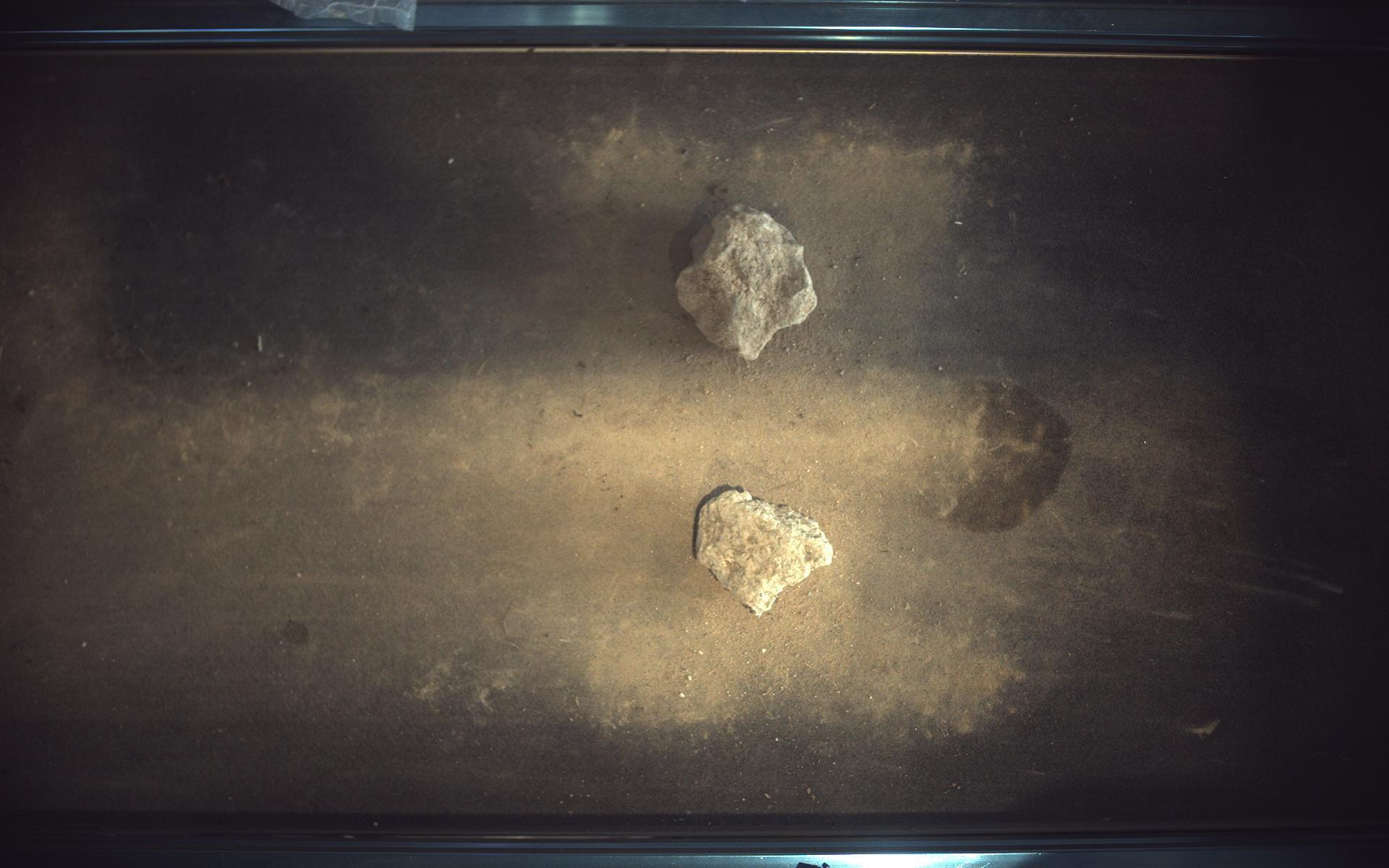stone: (677, 203, 819, 360), (697, 490, 835, 617)
